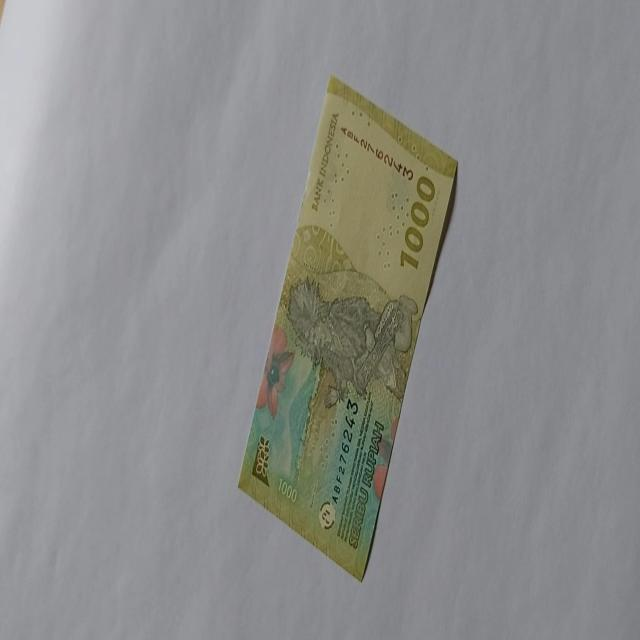seribu rupiah kertas: (236, 73, 458, 582)
